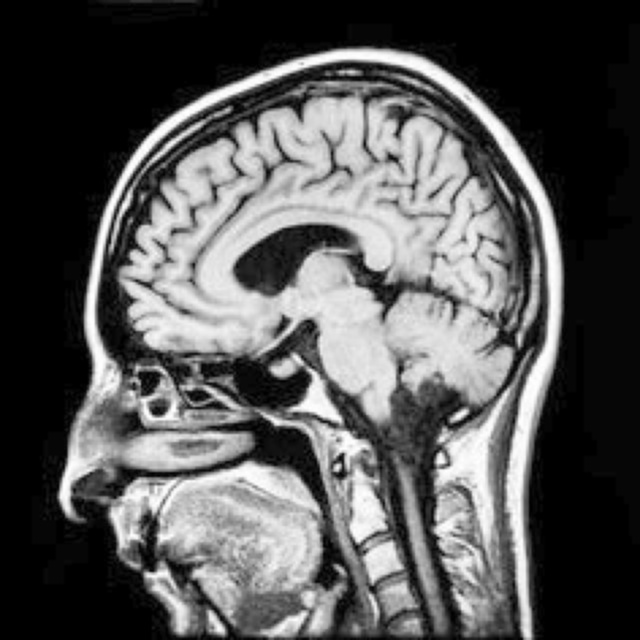glioma tumor: (152, 136, 534, 415)
